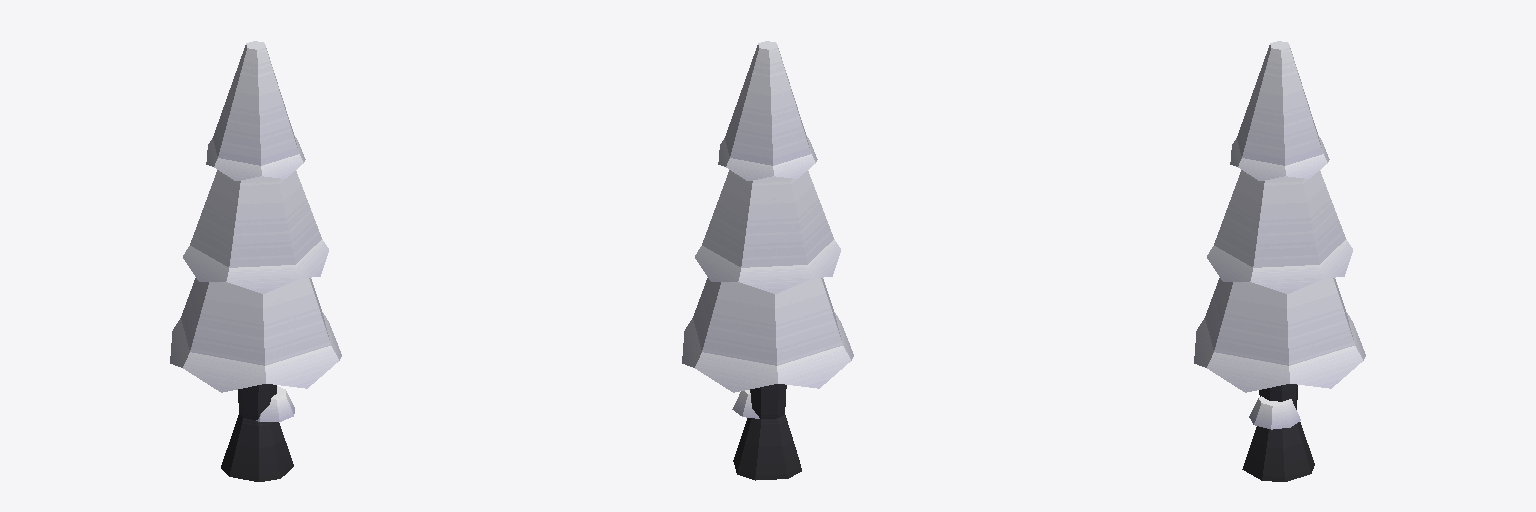
3 views of the same model, side by side, from view 1: azimuth 30°, elevation 25°; view 2: azimuth 150°, elevation 25°; view 3: azimuth 270°, elevation 25° (orthographic).
Visible parts, largest first — view 1: tree.072; view 2: tree.072; view 3: tree.072.
Boxes of the visible parts, x1=… form: tree.072: x1=170, y1=41, x2=341, y2=481; tree.072: x1=682, y1=41, x2=853, y2=480; tree.072: x1=1194, y1=41, x2=1365, y2=481.
Size of the model in its own units: 1.35 by 3.47 by 1.29.
Materials: 1 (1 with a texture image).